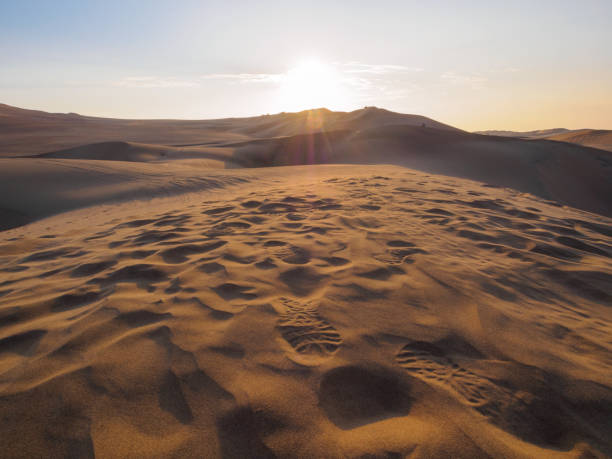human_foot_print: (398, 334, 514, 408), (272, 295, 332, 361), (130, 261, 195, 294), (222, 276, 262, 314), (0, 326, 41, 358), (48, 299, 106, 320), (168, 243, 230, 257), (236, 215, 261, 236), (278, 204, 300, 224)
